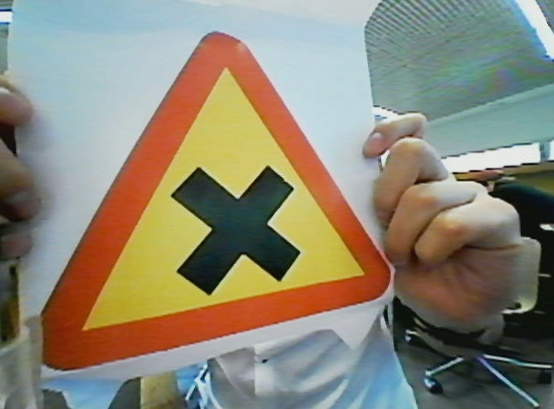junction: (20, 22, 410, 370)
